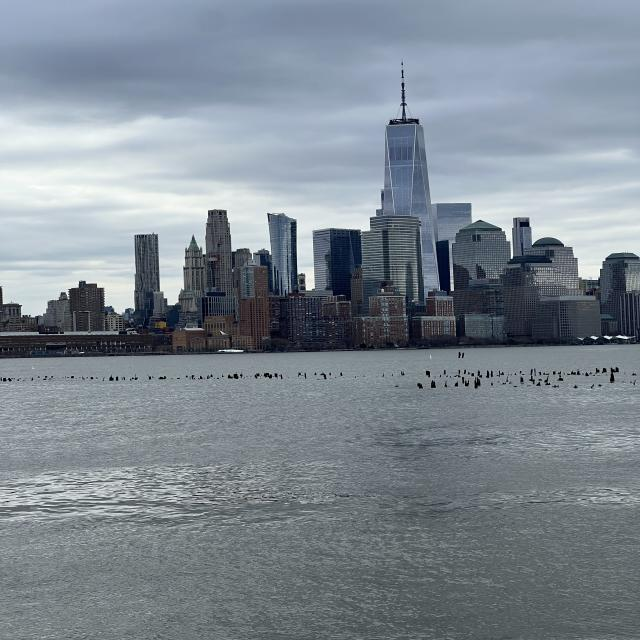WTC: (382, 60, 429, 217)
